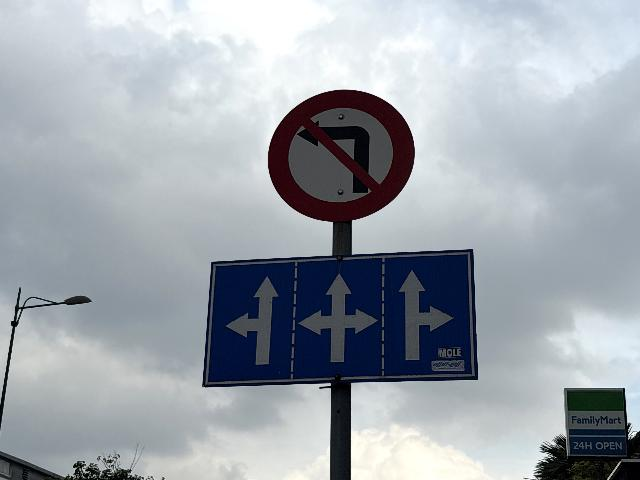cam-re-trai: (268, 90, 417, 223)
